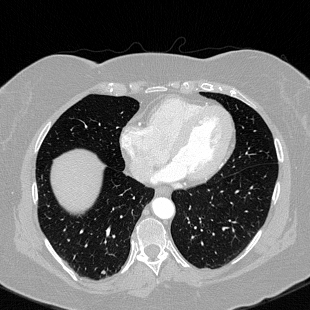nodule: (101, 270, 105, 274)
